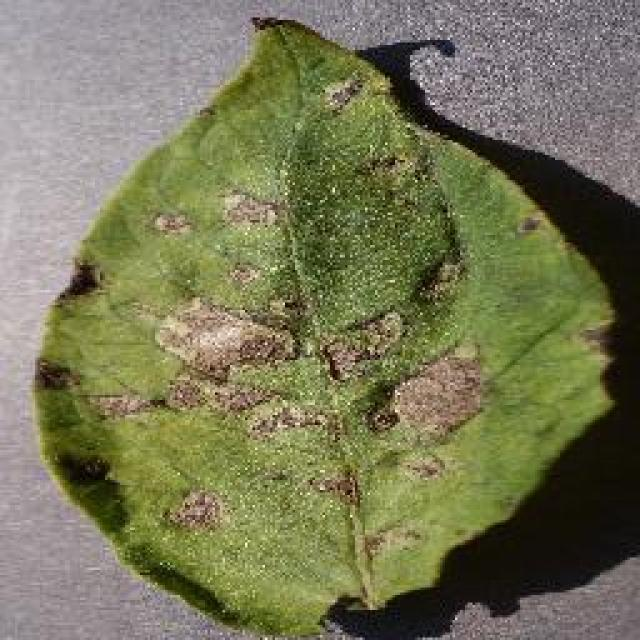early_blight: (28, 12, 622, 638)
